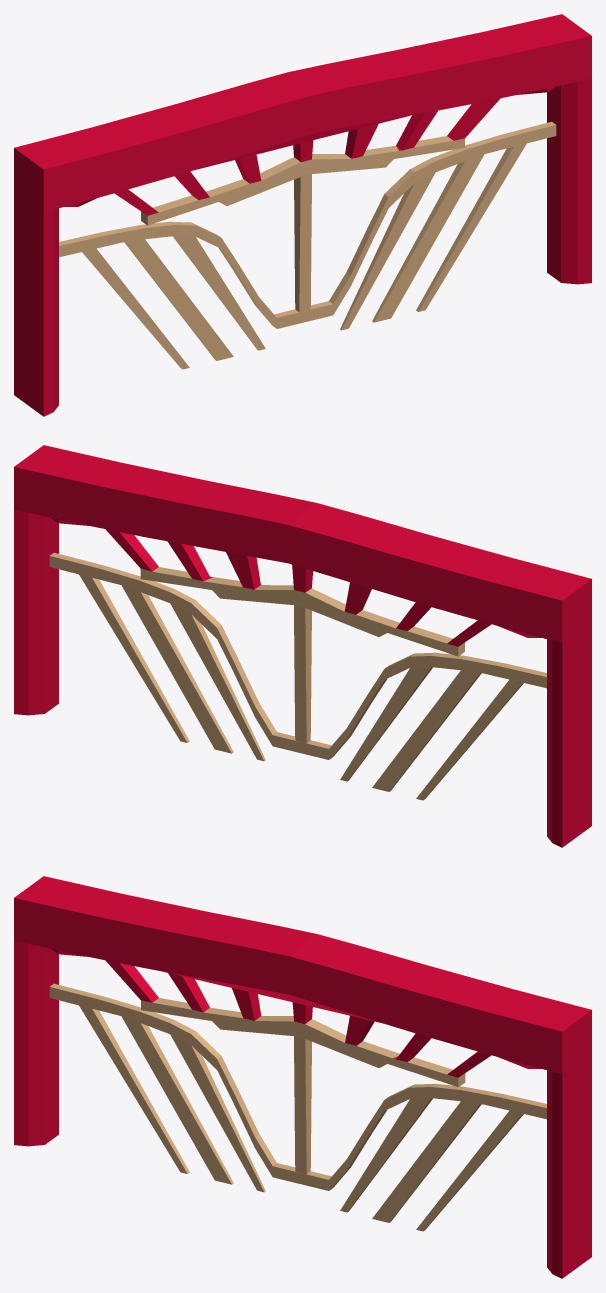
The model's file is zabradlinew.fbx.
3 views of the same model, one above another, from view 1: azimuth 30°, elevation 25°; view 2: azimuth 150°, elevation 25°; view 3: azimuth 330°, elevation 25° (orthographic).
Parts seen in each view (by area): view 1: Cube.002; view 2: Cube.002; view 3: Cube.002.
Part boxes in pixels (box(x1,y1,x2,y2)): Cube.002: box(14, 14, 591, 416); Cube.002: box(14, 445, 591, 847); Cube.002: box(14, 876, 591, 1278).
Bounding box in the file's own units: 237 × 106 × 22.33.
